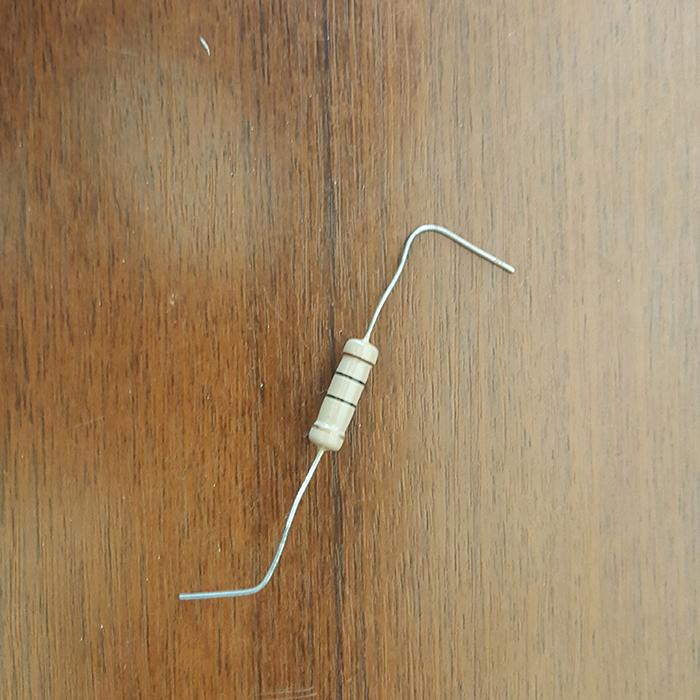resistor: (310, 337, 380, 450)
